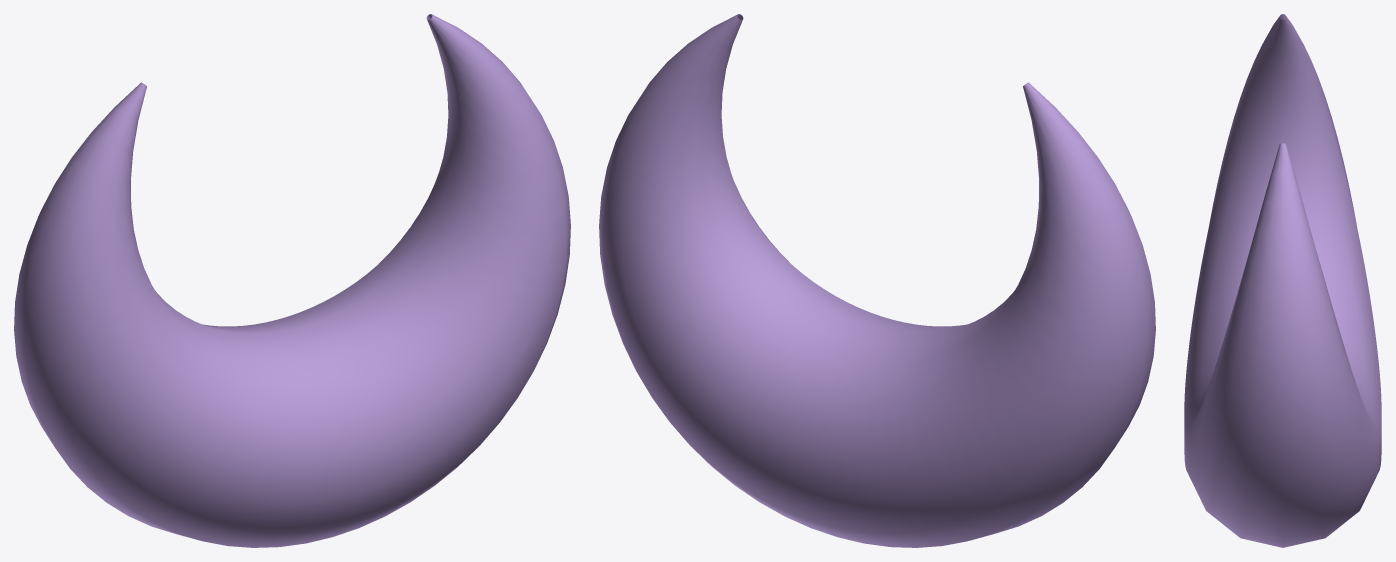
Rendered from shinyPurpleMoon.glb.
3 views of the same model, side by side, from view 1: azimuth 30°, elevation 25°; view 2: azimuth 150°, elevation 25°; view 3: azimuth 270°, elevation 25° (orthographic). The views are drawn at different scales.
Parts seen in each view (by area): view 1: NurbsPath; view 2: NurbsPath; view 3: NurbsPath.
Part boxes in pixels (x1,y1,x2,y2): NurbsPath: (14,14,570,547); NurbsPath: (599,14,1155,547); NurbsPath: (1184,14,1381,547).
Bounding box in the file's own units: 3.15 × 2.73 × 1.11.
